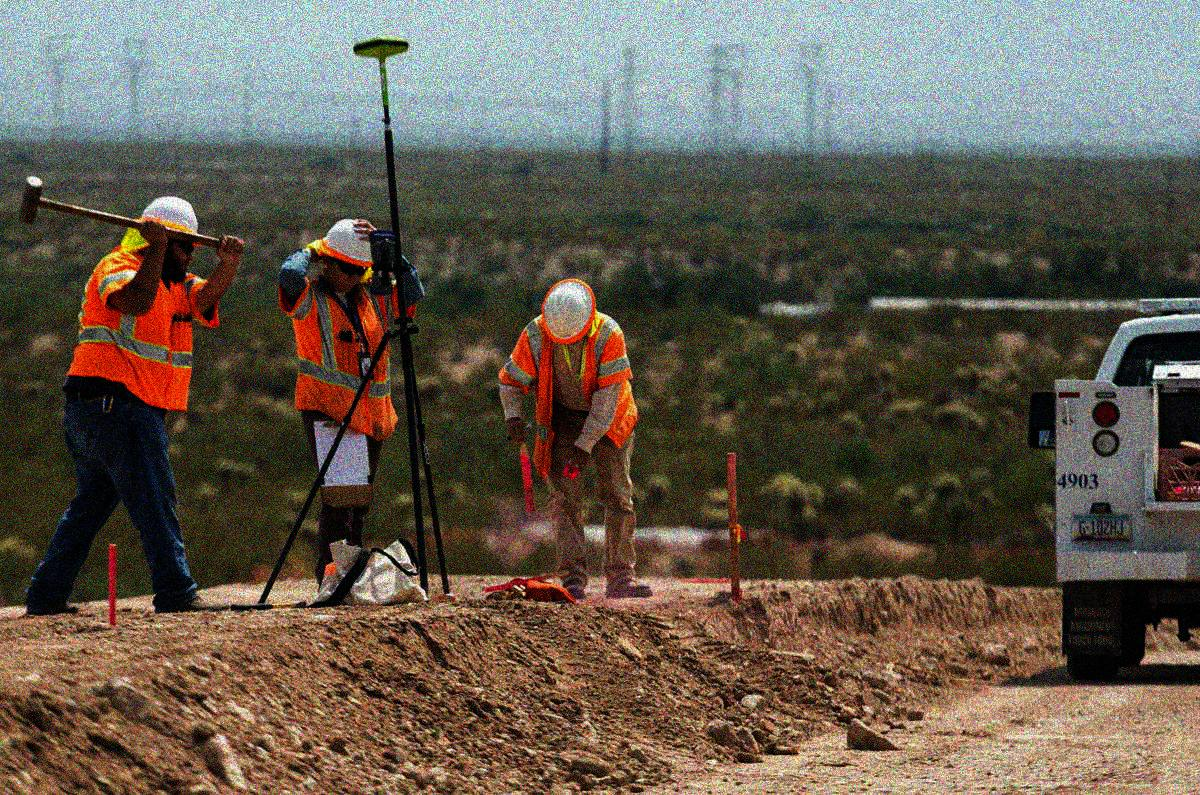helmet: (131, 190, 205, 280), (316, 215, 386, 301), (536, 277, 603, 350)
